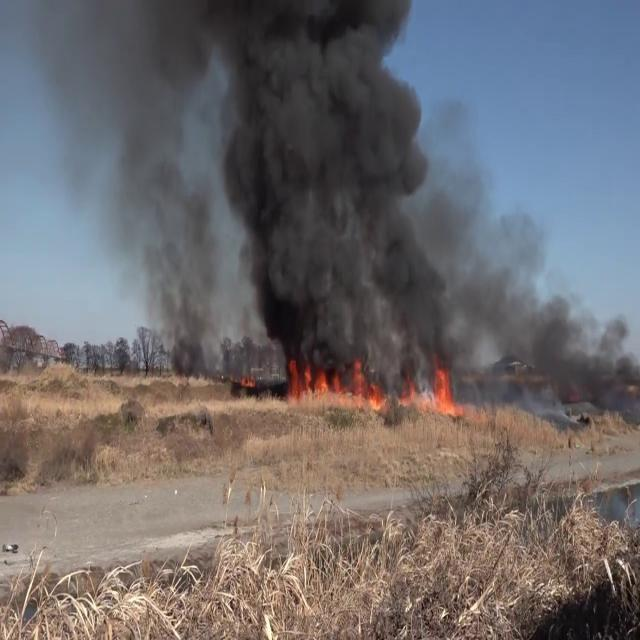Fire: (282, 344, 388, 412), (425, 353, 461, 418)
Smoke: (210, 1, 462, 376), (46, 0, 224, 368), (464, 200, 640, 403)
